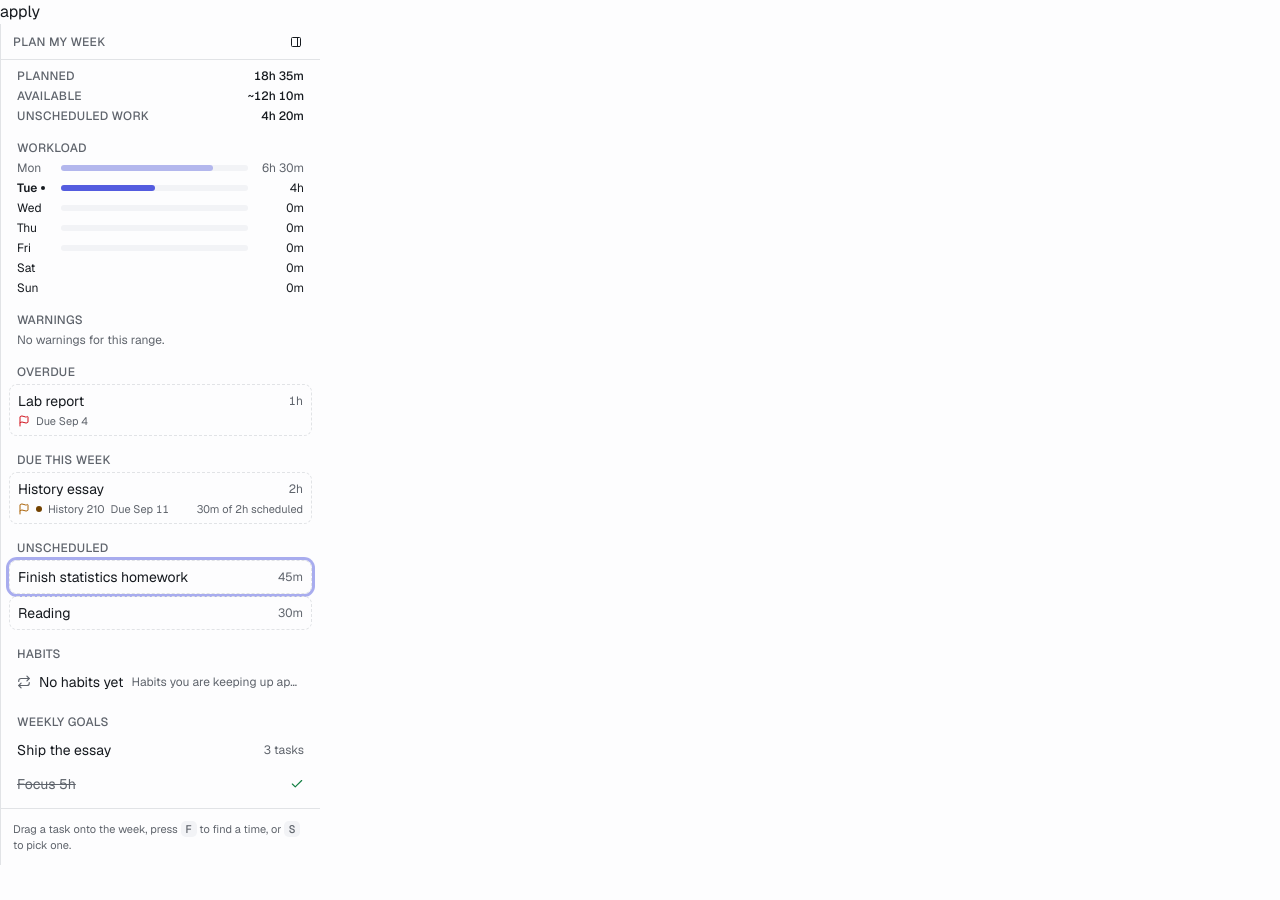
Test: PlanningDrawer › focus after scheduling removes the row it came from › lands on the next row when the row leaves as the dialog closes
The image size is (1280, 900).
Press s in the button "Finish statistics homework 45m", box 9,560 -> 312,594
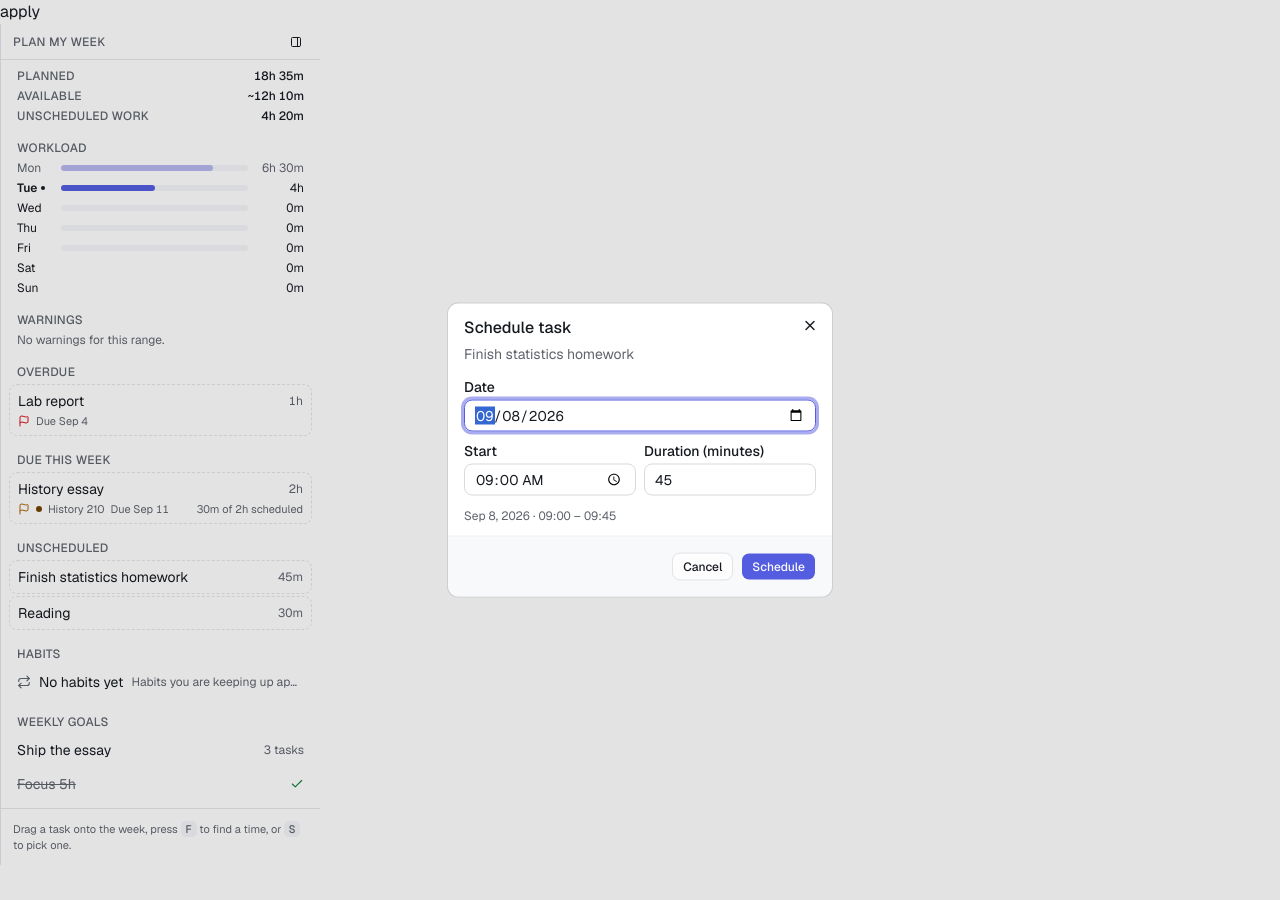
Click the button "Schedule" at (779, 566), box 741,552 -> 816,580
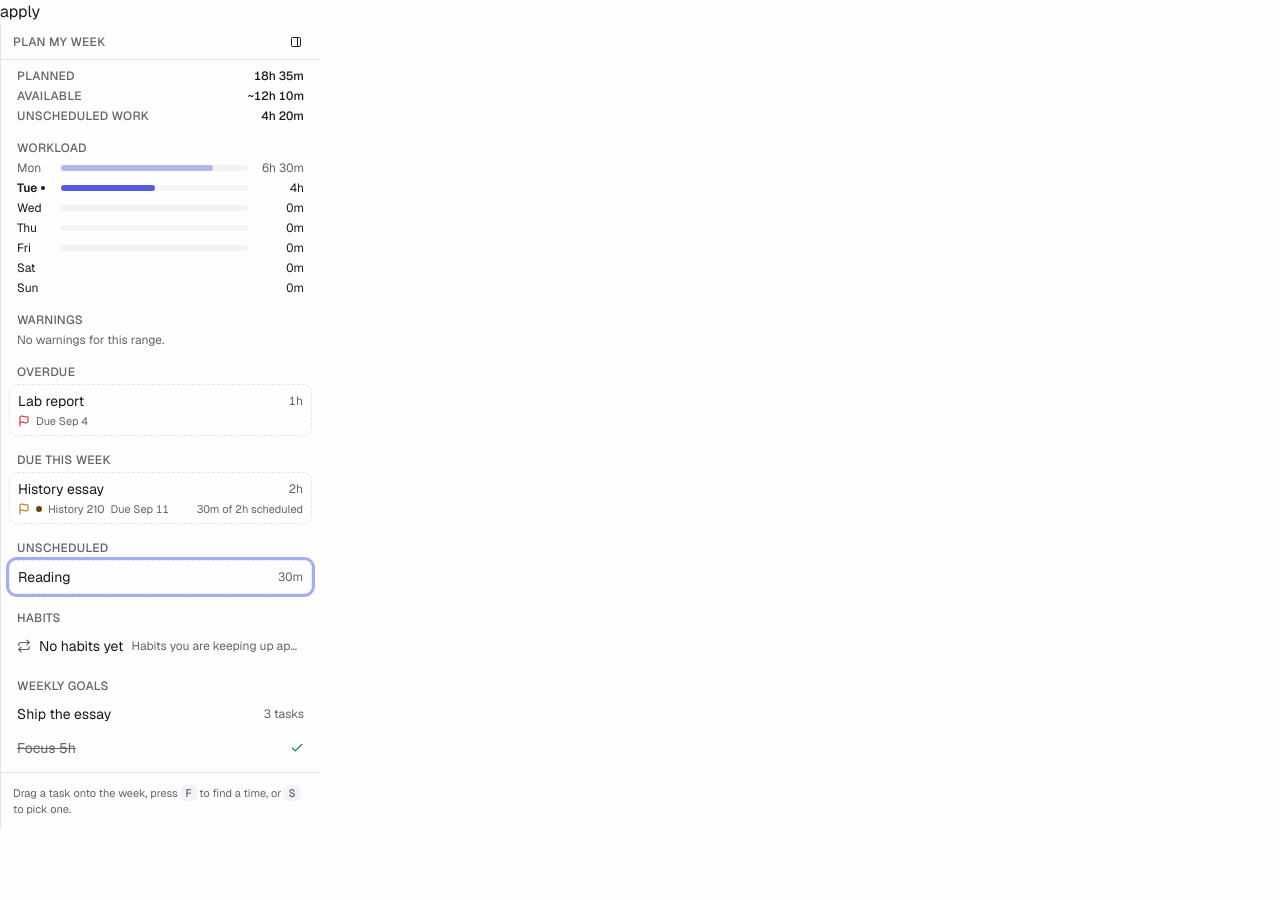
Check: the dialog is gone
Check: the button "statistics homework" is gone
